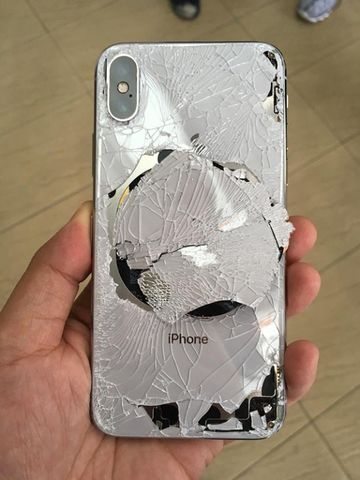Phone: (91, 40, 289, 441)
